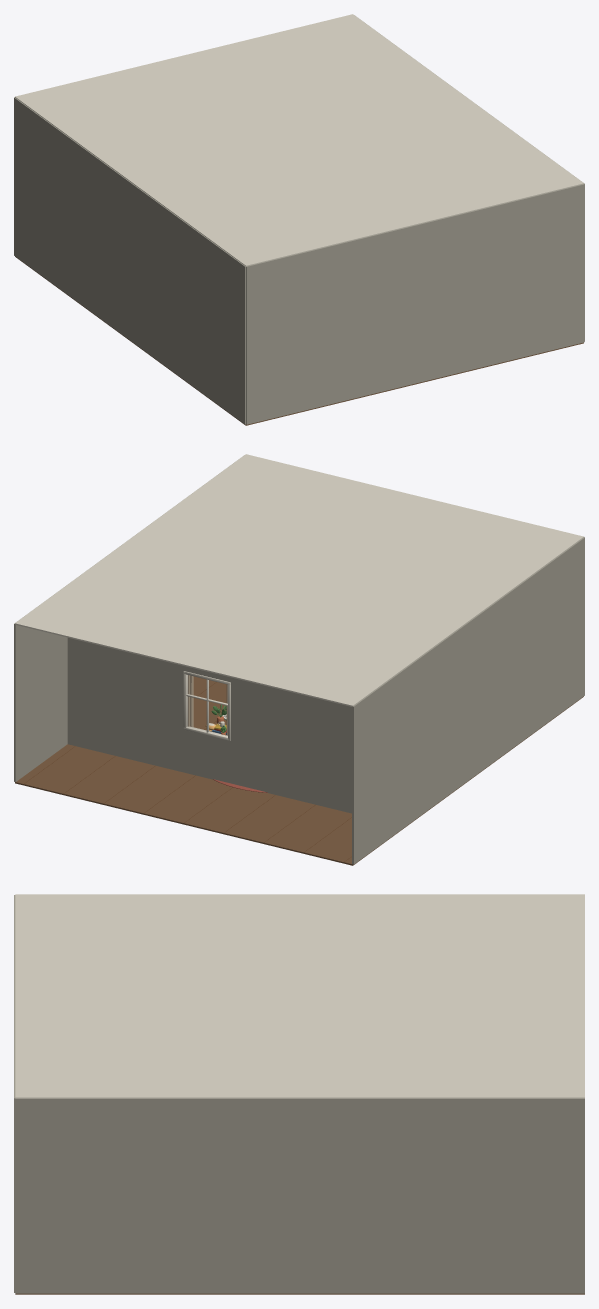
The model's file is room.glb.
3 renders of one model, top to bottom at view 1: azimuth 30°, elevation 25°; view 2: azimuth 150°, elevation 25°; view 3: azimuth 270°, elevation 25°, orthographic. The views are drawn at different scales.
Visible parts, largest first — view 1: room; view 2: room; view 3: room.
Boxes of the visible parts, x1,y1,x2,y2 form: room: (14, 14, 584, 425); room: (14, 454, 584, 865); room: (14, 894, 584, 1294).
Bounding box in the file's own units: 764 × 344 × 902.
